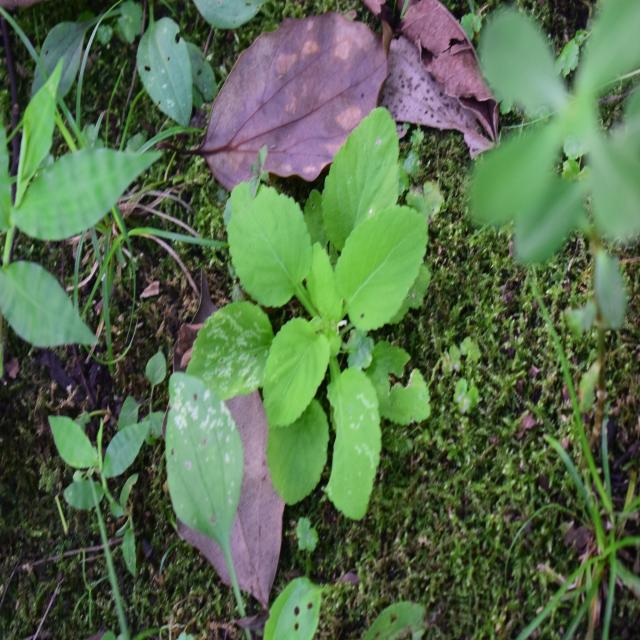Viola: (161, 118, 448, 502)
